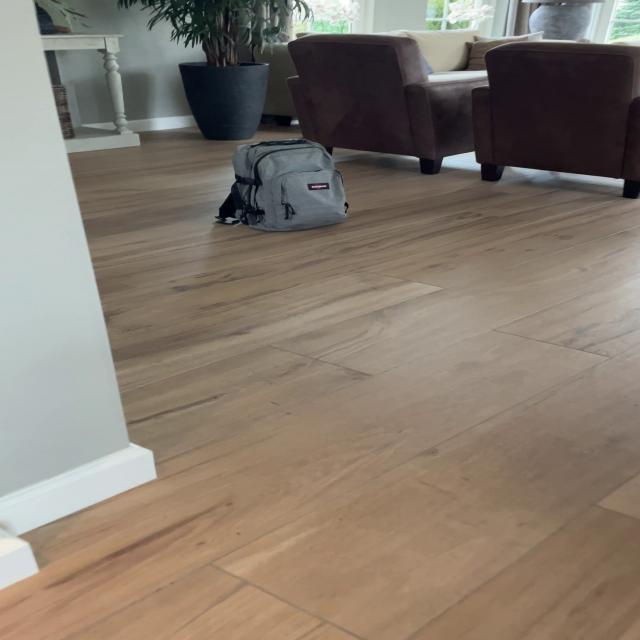backpack: (212, 134, 354, 235)
